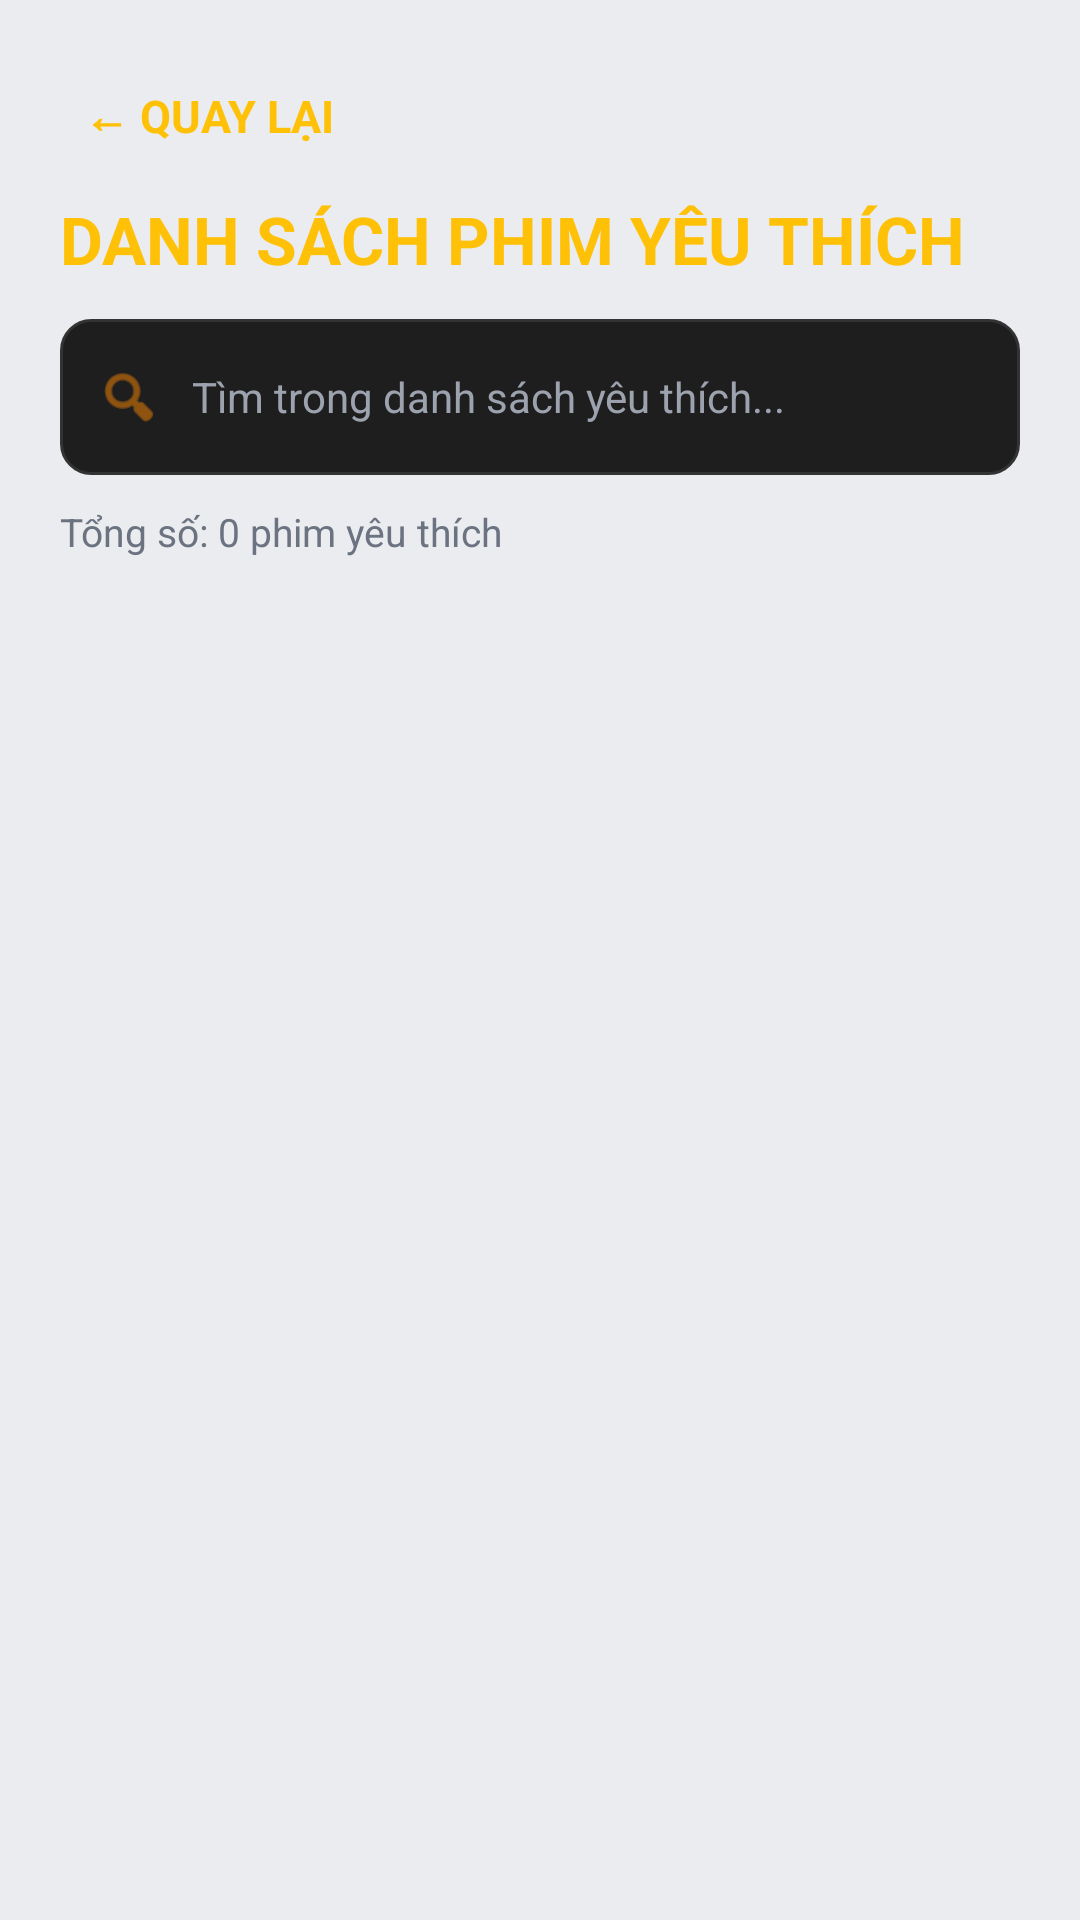

Icon click points for this 1080 × 1920 phone screenshot, format [x,y]:
Search Icon: [129,397]
